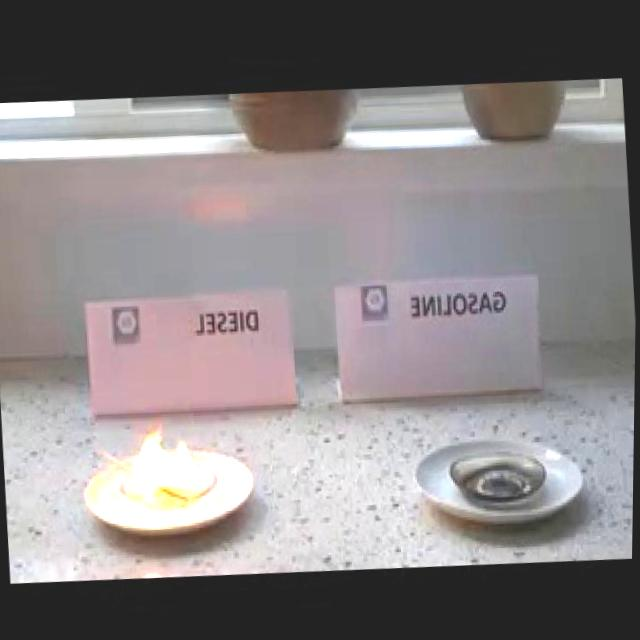helmet: (125, 414, 206, 506)
